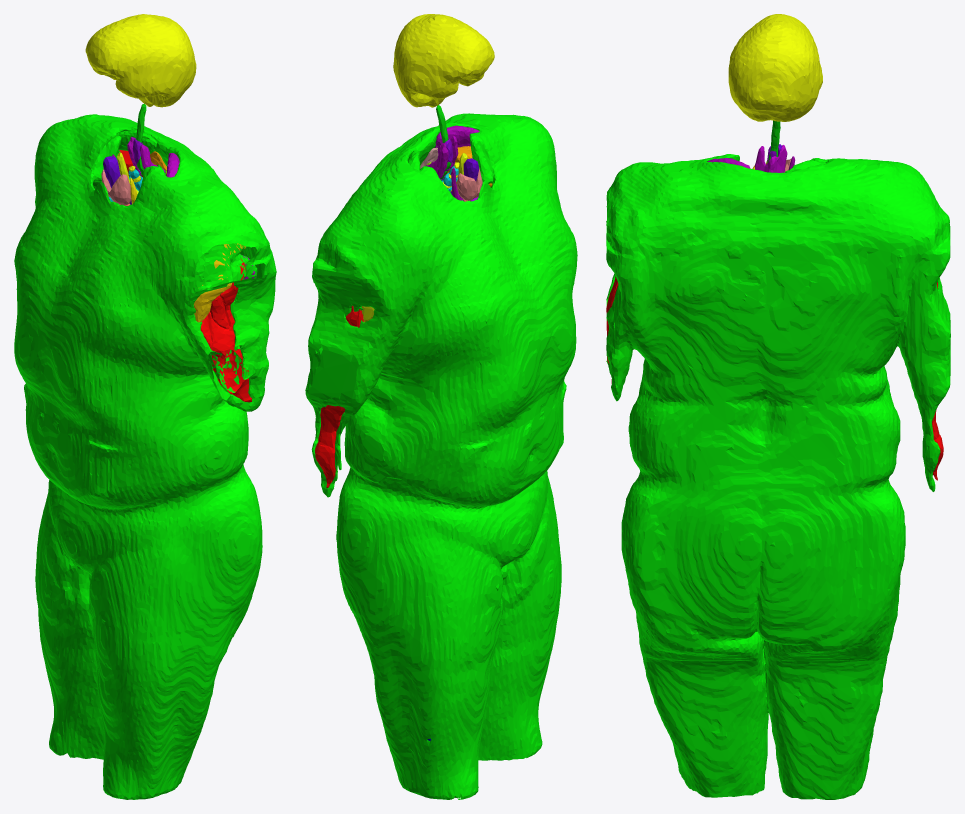
The picture shows the model from 3 angles, left to right: view 1: azimuth 30°, elevation 25°; view 2: azimuth 150°, elevation 25°; view 3: azimuth 270°, elevation 25°; orthographic projection. The views are drawn at different scales.
Parts seen in each view (by area): view 1: General__Subcutaneous_Fat, Head_Spine__Brain, General__Muscles_General, Muscles_shoulder__the_deltoid_left, Lymphatic_Endochrine__Thyroid_Gland; view 2: General__Subcutaneous_Fat, Head_Spine__Brain, General__Muscles_General, Lymphatic_Endochrine__Thyroid_Gland, Skeleton__Vertebra_Posterior_Elements, Muscles_trunk__Trapezius_left; view 3: General__Subcutaneous_Fat, Head_Spine__Brain.
Part boxes in pixels (x1=…): General__Subcutaneous_Fat: x1=14, y1=114, x2=276, y2=799; Head_Spine__Brain: x1=85, y1=14, x2=196, y2=107; General__Muscles_General: x1=200, y1=258, x2=252, y2=402; Muscles_shoulder__the_deltoid_left: x1=193, y1=243, x2=245, y2=322; Lymphatic_Endochrine__Thyroid_Gland: x1=101, y1=168, x2=131, y2=205; General__Subcutaneous_Fat: x1=305, y1=113, x2=577, y2=799; Head_Spine__Brain: x1=393, y1=14, x2=494, y2=107; General__Muscles_General: x1=315, y1=305, x2=363, y2=487; Lymphatic_Endochrine__Thyroid_Gland: x1=456, y1=167, x2=482, y2=200; Skeleton__Vertebra_Posterior_Elements: x1=426, y1=135, x2=458, y2=178; Muscles_trunk__Trapezius_left: x1=435, y1=125, x2=479, y2=147; General__Subcutaneous_Fat: x1=606, y1=154, x2=950, y2=799; Head_Spine__Brain: x1=728, y1=14, x2=822, y2=121.
Size of the model in its own units: 0.2916 by 1.23 by 0.4971.
